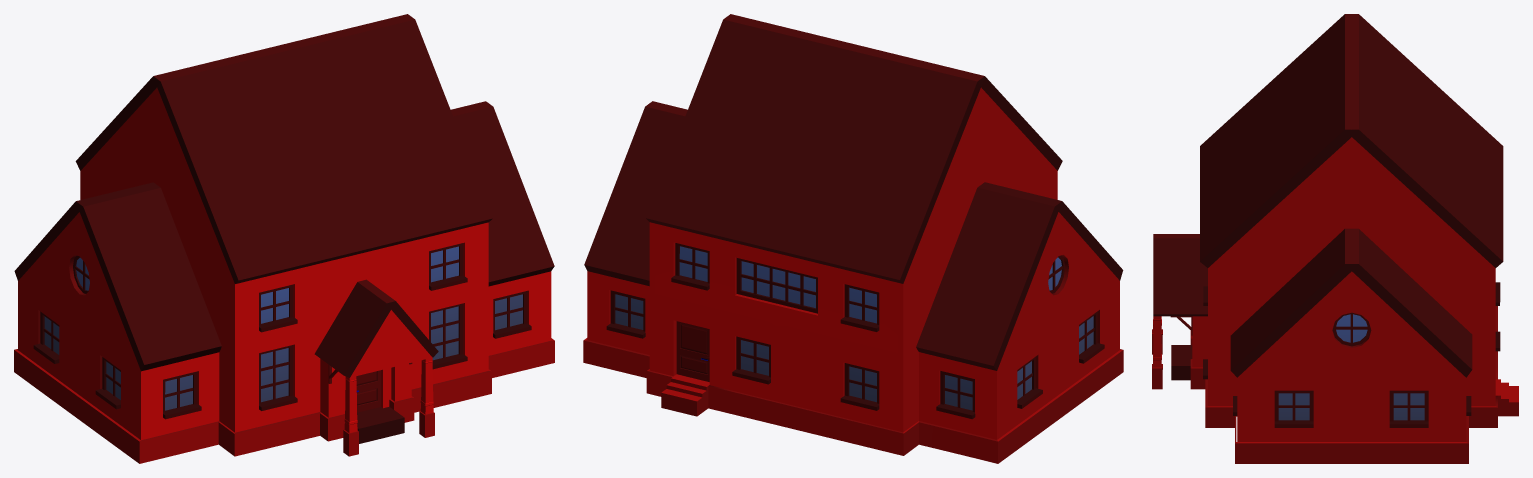
Rendered from buildings-residential-largefamilyhome_v1.fbx.
3 renders of one model, left to right at view 1: azimuth 30°, elevation 25°; view 2: azimuth 150°, elevation 25°; view 3: azimuth 270°, elevation 25°, orthographic. The views are drawn at different scales.
Parts seen in each view (by area): view 1: LargeFamilyHome_v1_base, LargeFamilyHome_v1_windowRefl; view 2: LargeFamilyHome_v1_base, LargeFamilyHome_v1_windowRefl; view 3: LargeFamilyHome_v1_base, LargeFamilyHome_v1_windowRefl.
Part boxes in pixels (x1,y1,x2,y2): LargeFamilyHome_v1_base: (14,14,554,463); LargeFamilyHome_v1_windowRefl: (44,246,522,410); LargeFamilyHome_v1_base: (583,14,1123,463); LargeFamilyHome_v1_windowRefl: (615,246,1093,410); LargeFamilyHome_v1_base: (1152,14,1518,463); LargeFamilyHome_v1_windowRefl: (1278,314,1424,420).
Bounding box in the file's own units: 17.94 × 13.1 × 14.61.
